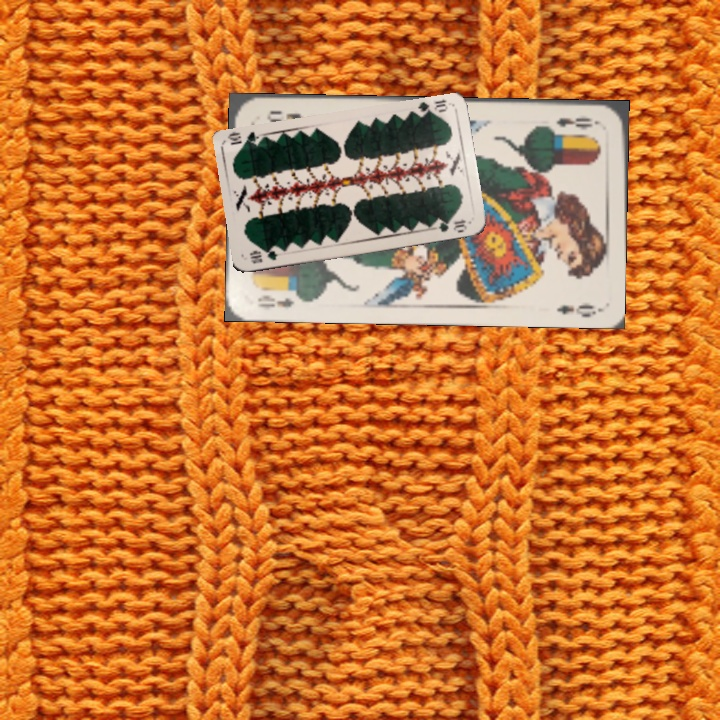EO: (254, 287, 309, 310), (552, 113, 602, 132)
G10: (413, 95, 450, 119), (246, 246, 280, 266)
